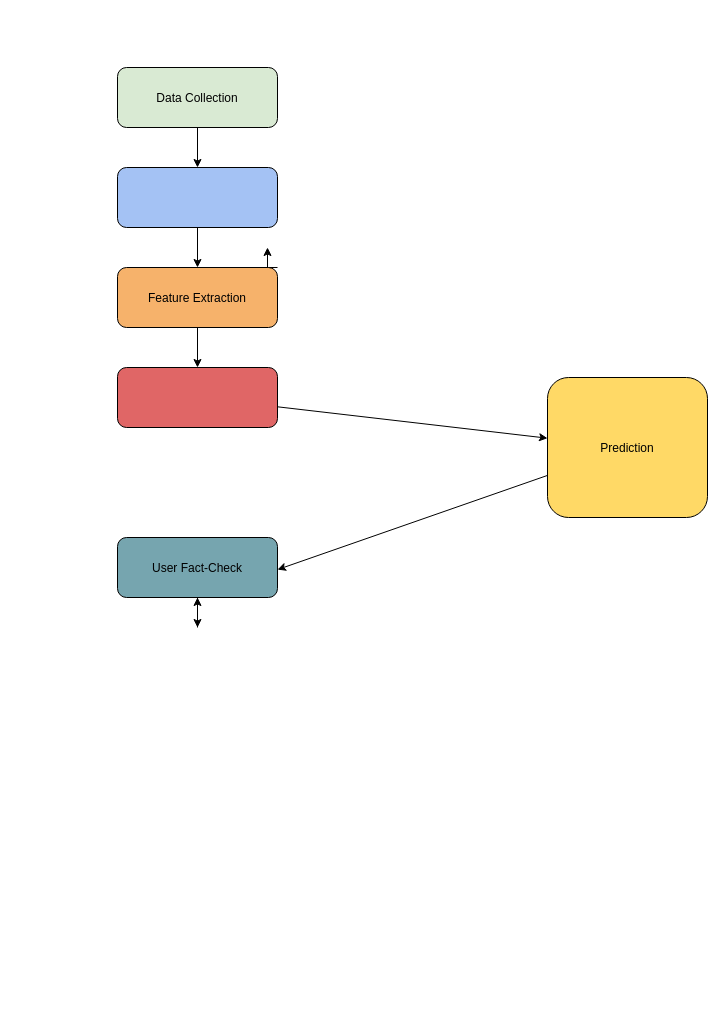
The diagram is 725 pixels wide and 1034 high, and some of its shapes have lost their labels. Here are the shapes that lost their labels. From the top down, the box of each, then its label:
(116, 166, 278, 228): Preprocessing
(116, 366, 278, 428): Model Training
